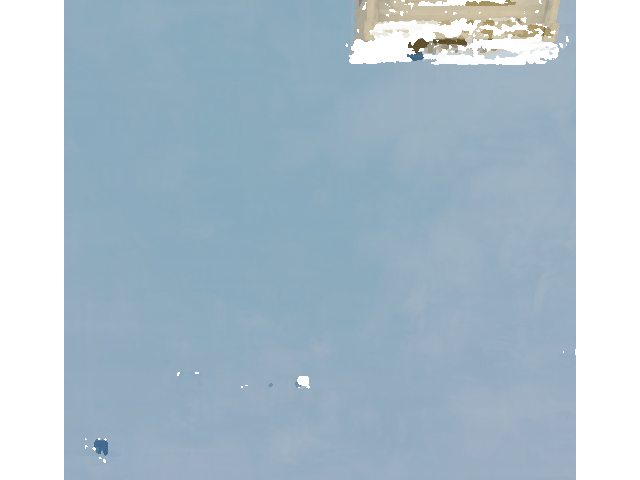container3: (348, 0, 567, 54)
